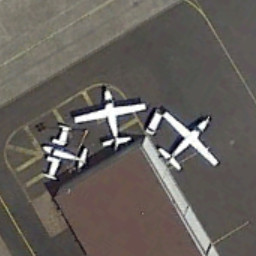Airplane: (155, 91, 226, 181), (70, 77, 149, 156), (23, 118, 91, 190)
